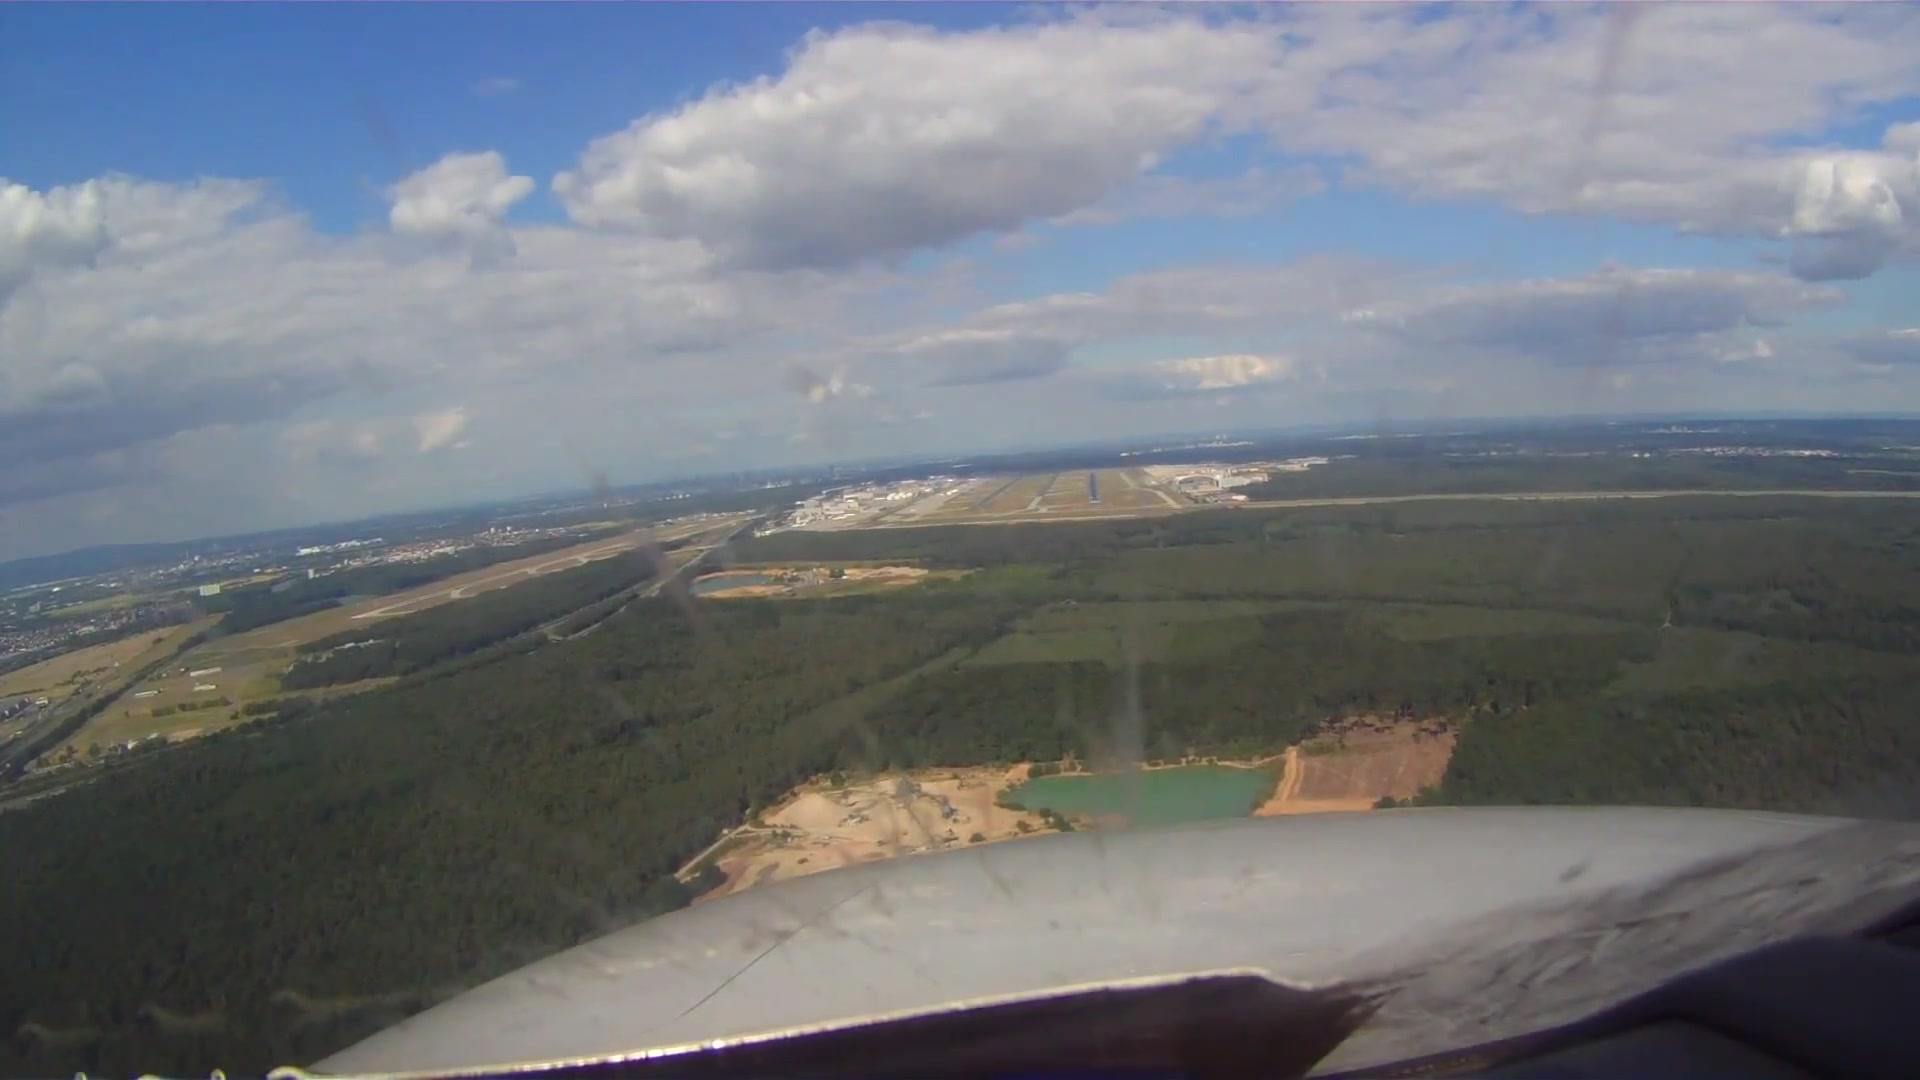runway: (1085, 469, 1102, 505)
